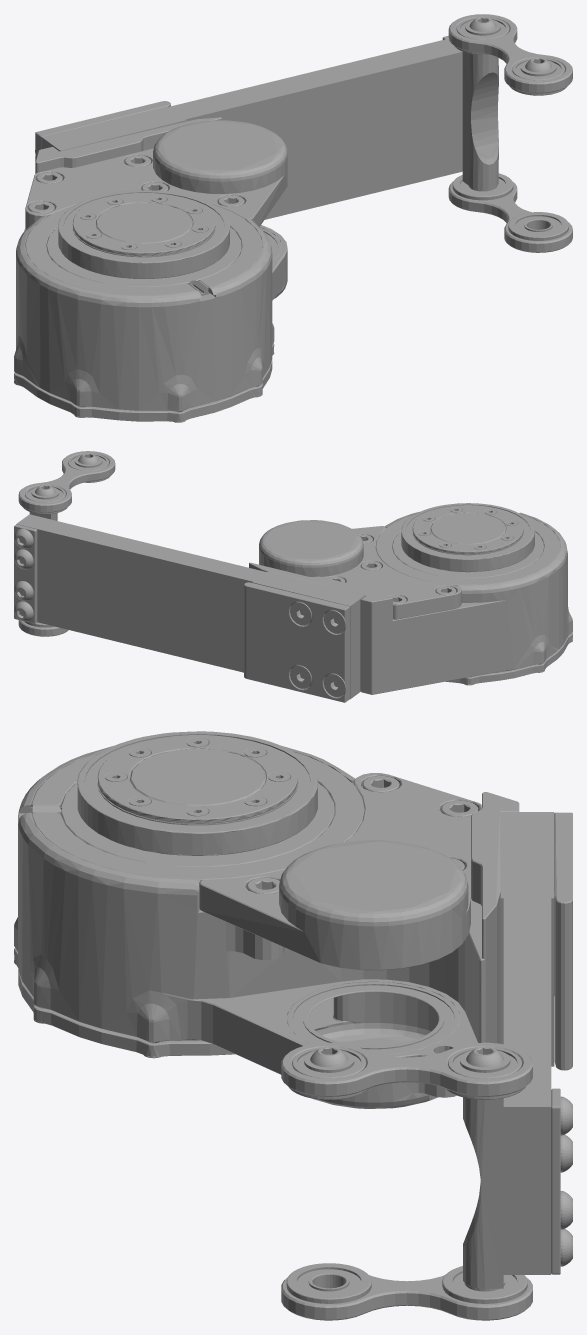
File: knee.obj
3 views of the same model, one above another, from view 1: azimuth 30°, elevation 25°; view 2: azimuth 150°, elevation 25°; view 3: azimuth 270°, elevation 25° (orthographic). The views are drawn at different scales.
Parts seen in each view (by area): view 1: knee; view 2: knee; view 3: knee.
Boxes of the visible parts, x1,y1,x2,y2 form: knee: [14, 14, 572, 422]; knee: [14, 451, 572, 702]; knee: [14, 731, 572, 1320].
Bounding box in the file's own units: 0.2552 × 0.0776 × 0.1506.
1 material, 1 textured.
